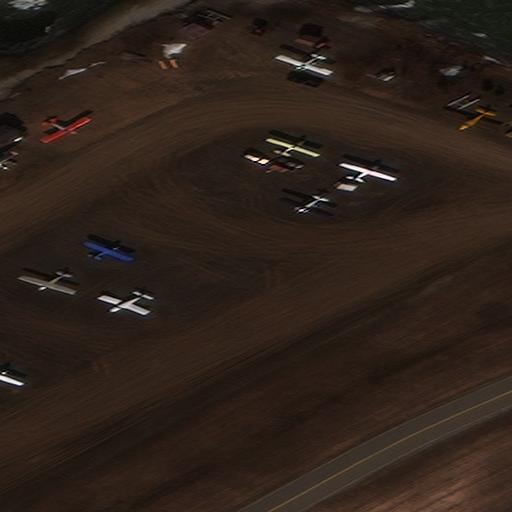Small Civil Transport: (16, 271, 74, 296), (442, 107, 496, 133), (273, 54, 328, 77), (45, 118, 93, 143), (341, 162, 398, 182), (95, 293, 146, 315), (279, 196, 331, 216), (267, 137, 320, 155), (85, 240, 135, 259), (0, 367, 25, 384), (0, 152, 20, 171)
